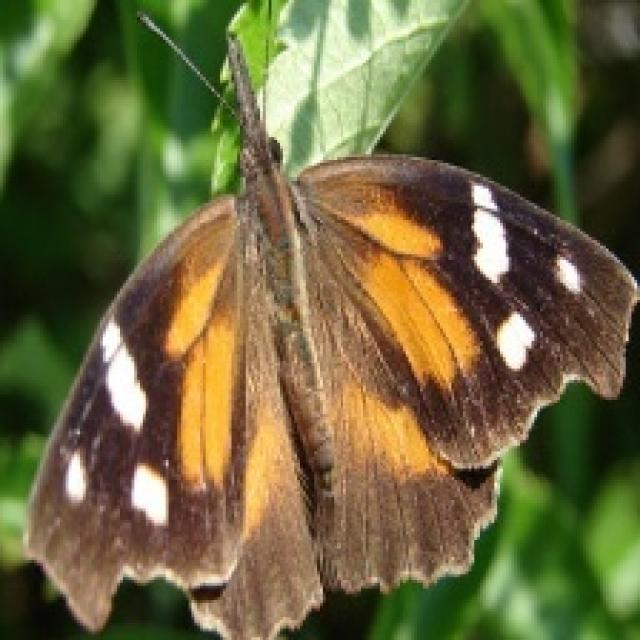butterfly: (20, 3, 637, 637)
